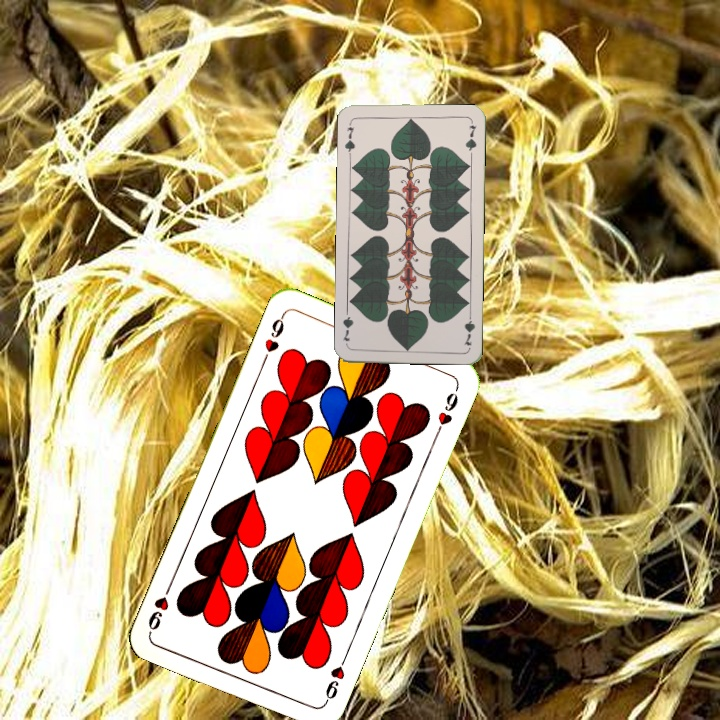G7: (460, 308, 477, 348), (341, 118, 357, 158)
H9: (320, 651, 350, 707), (258, 310, 287, 367)
